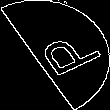P_SW: (17, 27, 93, 83)
